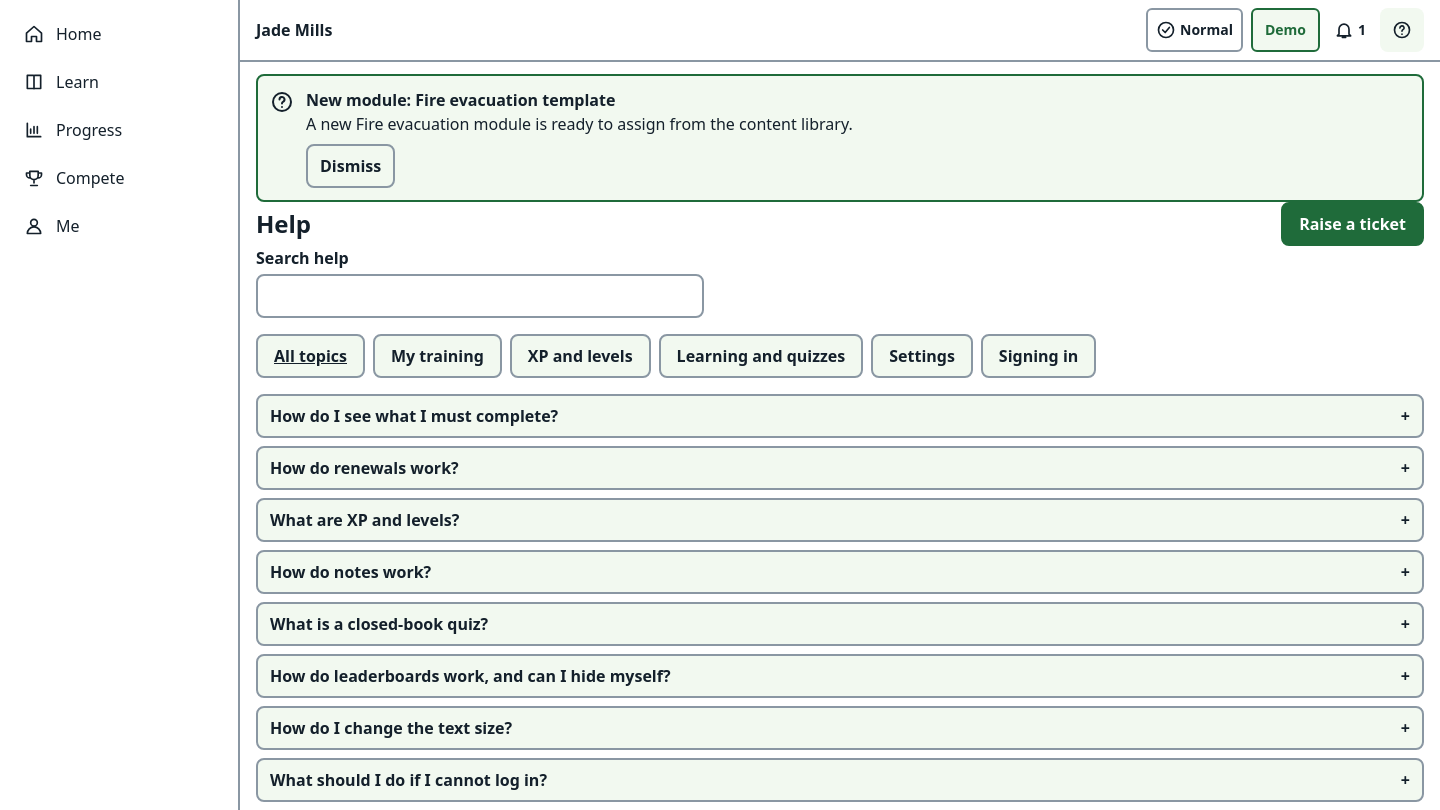
Test case: S14 Help: FAQs › filters by category and goes back to everything with All topics
The image size is (1440, 810).
Step 1. Click the button "My training" → x=437, y=356, box [373, 334, 502, 378]
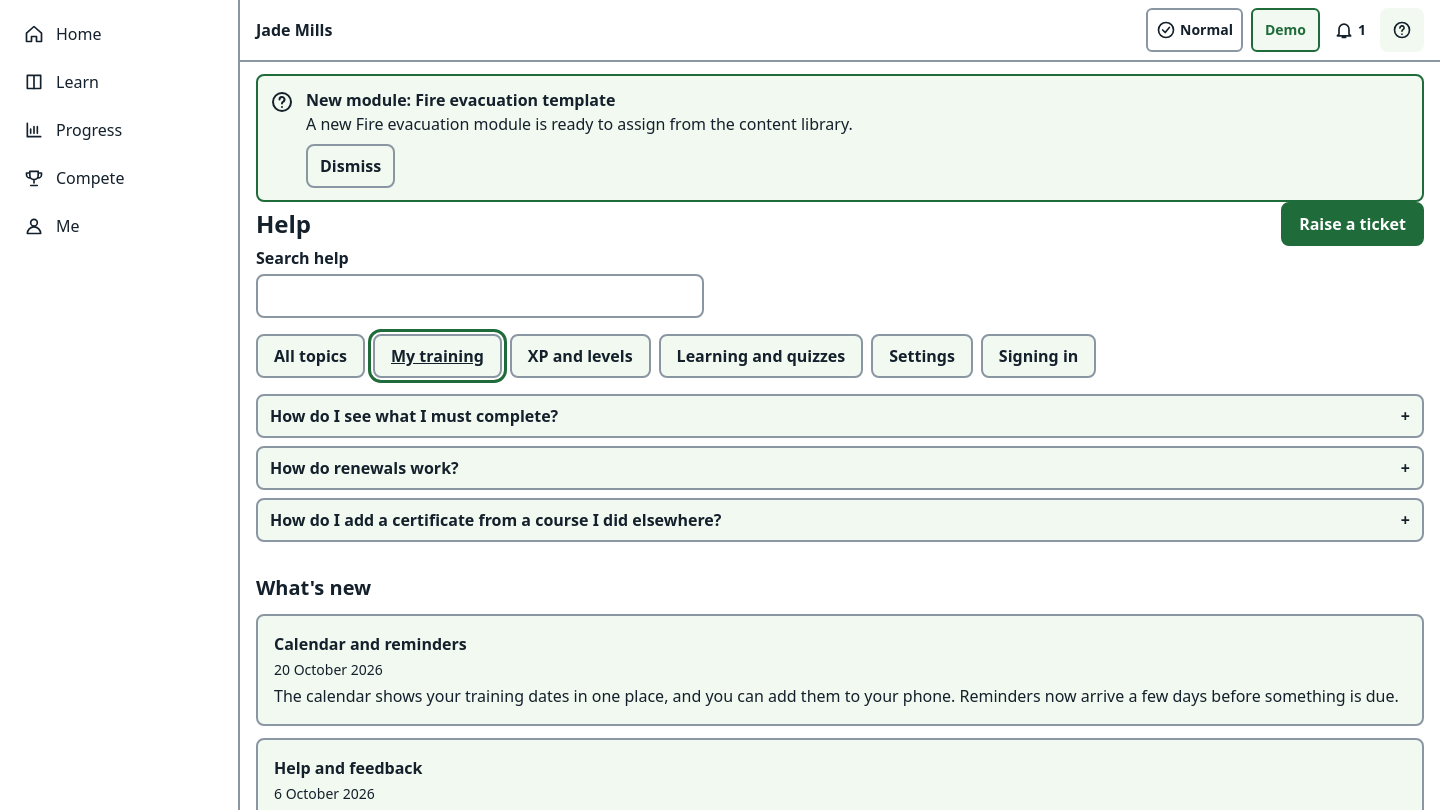
Expected: the button "How do I see what I must complete? +" is shown, [256, 394, 1424, 438]
Expected: the button "What are XP and levels?" is gone
Step 2. Click the button "All topics" → x=310, y=356, box [256, 334, 365, 378]
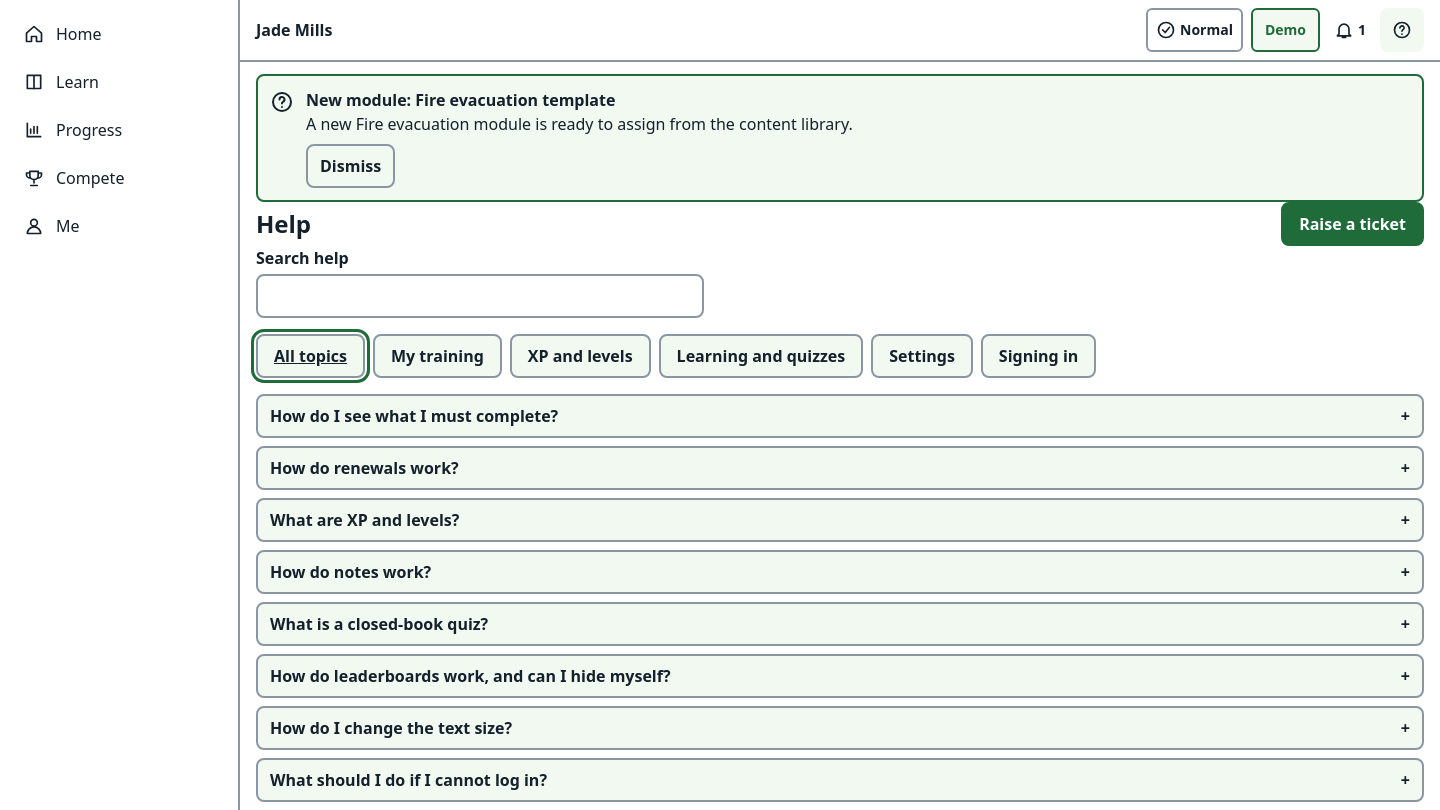
Expected: the button "What are XP and levels? +" is shown, [256, 498, 1424, 542]
